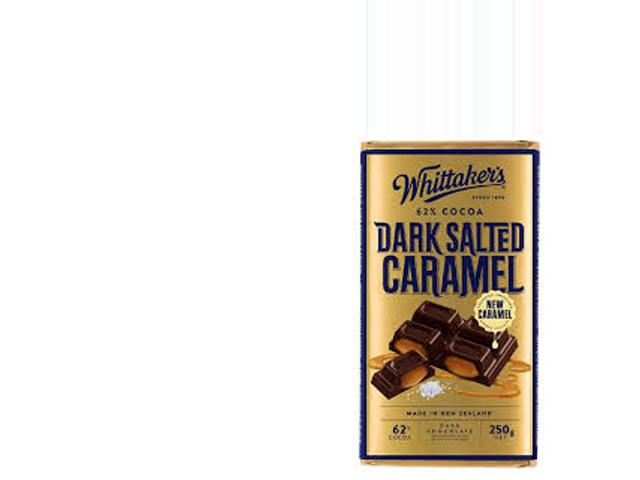chocolate: (353, 143, 552, 473)
